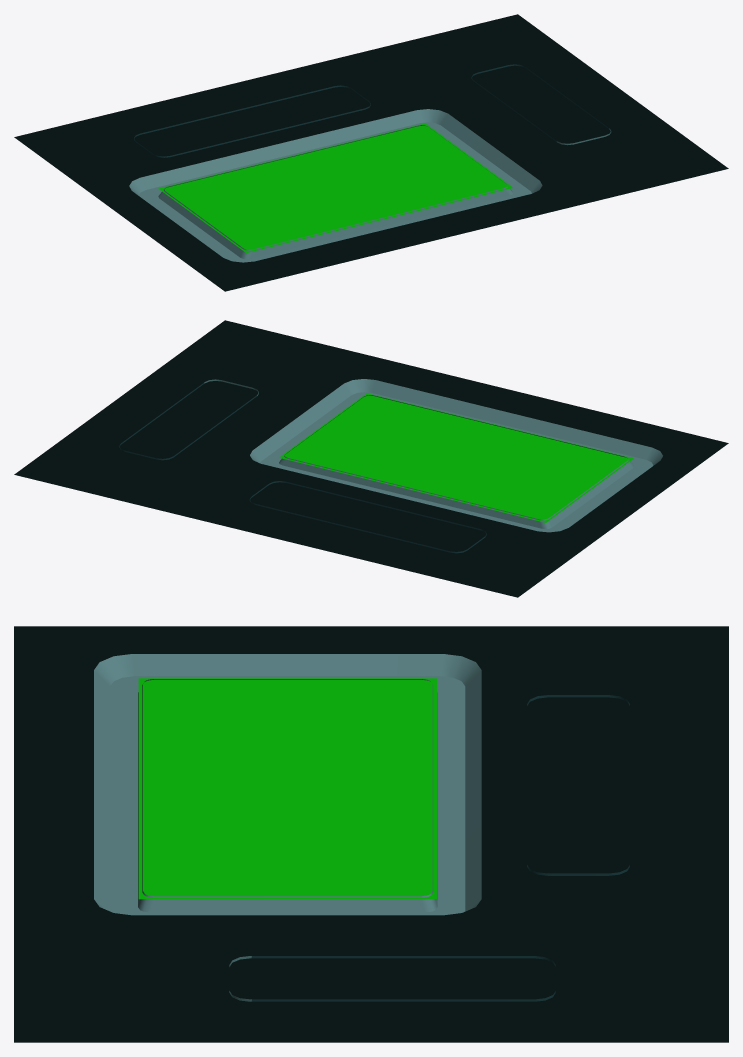
The model's file is Container_10_Cap_Storage.fbx.
The picture shows the model from 3 angles, top to bottom: view 1: azimuth 30°, elevation 25°; view 2: azimuth 150°, elevation 25°; view 3: azimuth 270°, elevation 25°; orthographic projection. The views are drawn at different scales.
Visible parts, largest first — view 1: Container_10_Cap_Storage; view 2: Container_10_Cap_Storage; view 3: Container_10_Cap_Storage.
Part boxes in pixels (x1=…): Container_10_Cap_Storage: x1=14, y1=14, x2=728, y2=291; Container_10_Cap_Storage: x1=14, y1=320, x2=728, y2=597; Container_10_Cap_Storage: x1=14, y1=626, x2=728, y2=1042.
Bounding box in the file's own units: 58.83 × 1.98 × 42.68.
